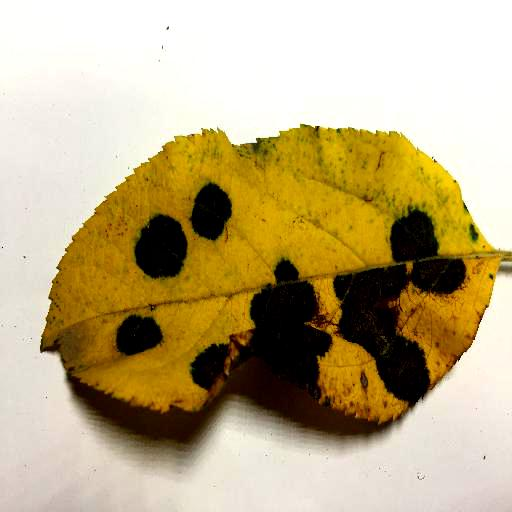Brown_Spot: (323, 261, 432, 411), (250, 265, 331, 393), (391, 208, 467, 297), (133, 220, 189, 273), (114, 307, 160, 360), (189, 339, 227, 386), (195, 192, 230, 233)
